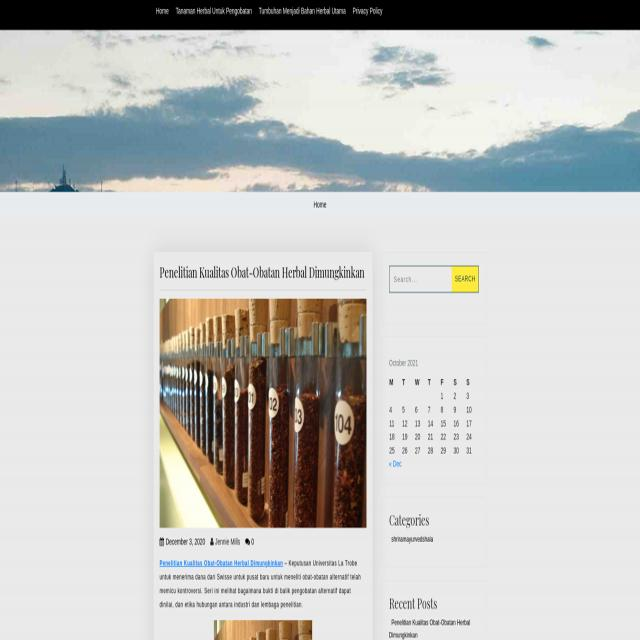button: (160, 299, 366, 526), (256, 1, 350, 21), (173, 1, 257, 21), (350, 1, 387, 21), (452, 266, 478, 292), (154, 1, 174, 21)
field: (389, 266, 451, 292)
